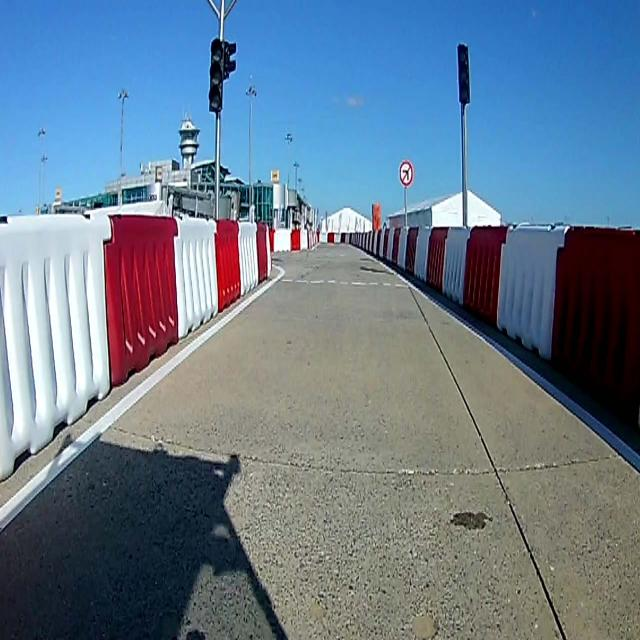soladonulmez: (400, 158, 413, 186)
